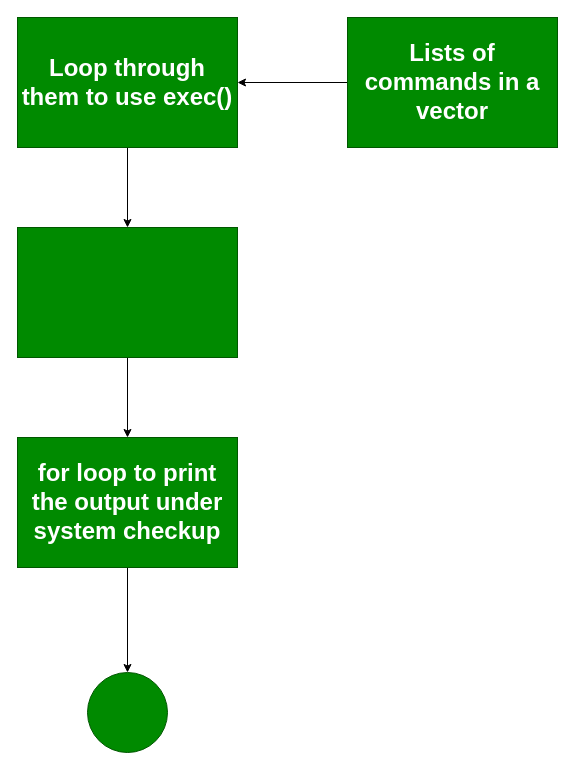
Image size: 575x770. Some labels were removed from this diagram. The shapes that lost their labels are listed below. From the top down, each one's centre as x and y in pixels, then its label:
the point at 127,292: Save them in a new vector
the point at 127,712: end
